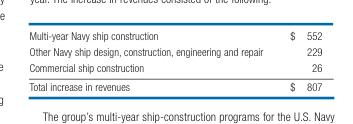table: (28, 28, 321, 92)
table column: (28, 28, 275, 92), (275, 28, 321, 92)
table row: (28, 59, 321, 77), (28, 42, 321, 59), (28, 77, 321, 92), (28, 28, 321, 42)
